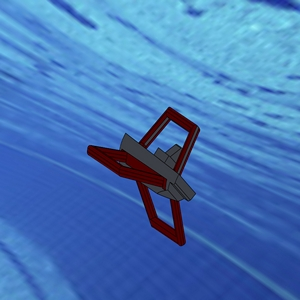submarine: (60, 85, 229, 254)
